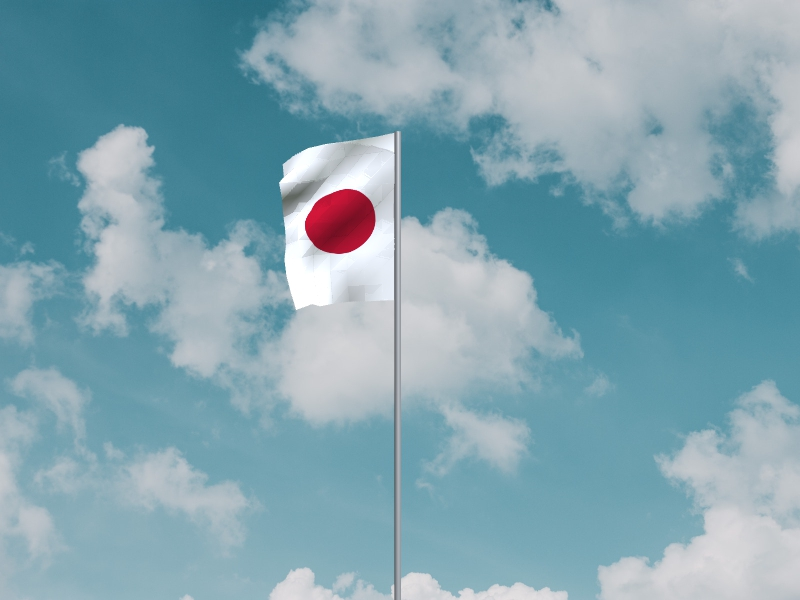jp: (279, 133, 395, 312)
